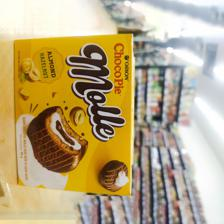Molle: (11, 33, 134, 199)
